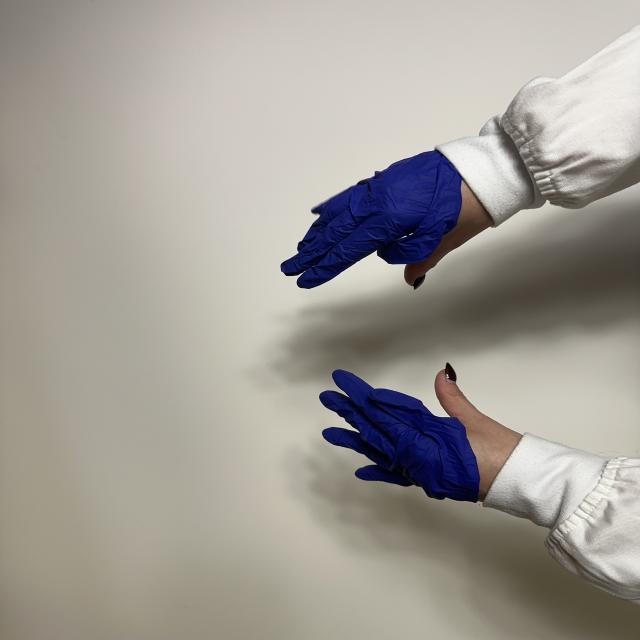glove_partial: (281, 150, 494, 288), (320, 364, 522, 502)
